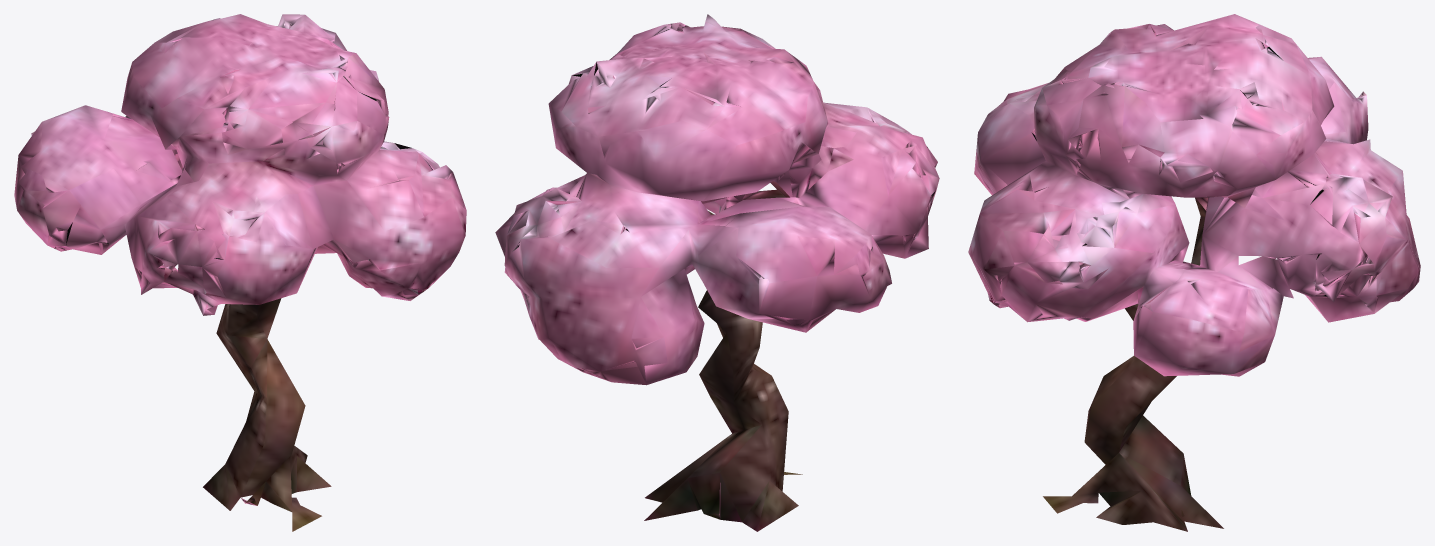
The model's file is tree_sakura.glb.
The picture shows the model from 3 angles, left to right: view 1: azimuth 30°, elevation 25°; view 2: azimuth 150°, elevation 25°; view 3: azimuth 270°, elevation 25°; orthographic projection. The views are drawn at different scales.
Visible parts, largest first — view 1: tree_sakura; view 2: tree_sakura; view 3: tree_sakura.
Boxes of the visible parts, left/top/right/bottom form: tree_sakura: left=14, top=14, right=466, bottom=531; tree_sakura: left=495, top=14, right=939, bottom=531; tree_sakura: left=968, top=14, right=1420, bottom=531.
Bounding box in the file's own units: 6.13 × 6.87 × 5.95.
Materials: 1 (1 with a texture image).
